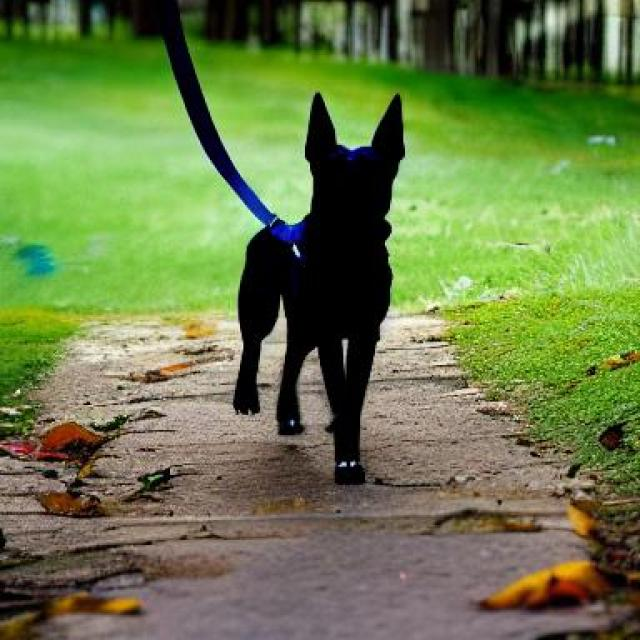Dog: (232, 90, 407, 485)
